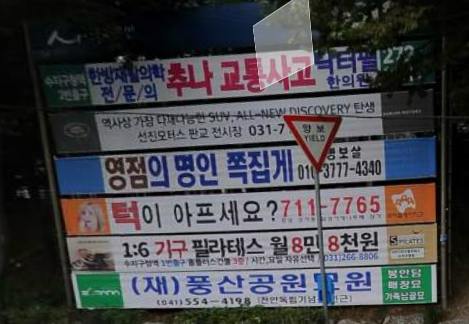banner: (48, 84, 435, 155), (53, 132, 439, 196), (56, 178, 435, 237), (64, 221, 444, 274), (75, 269, 444, 307)
